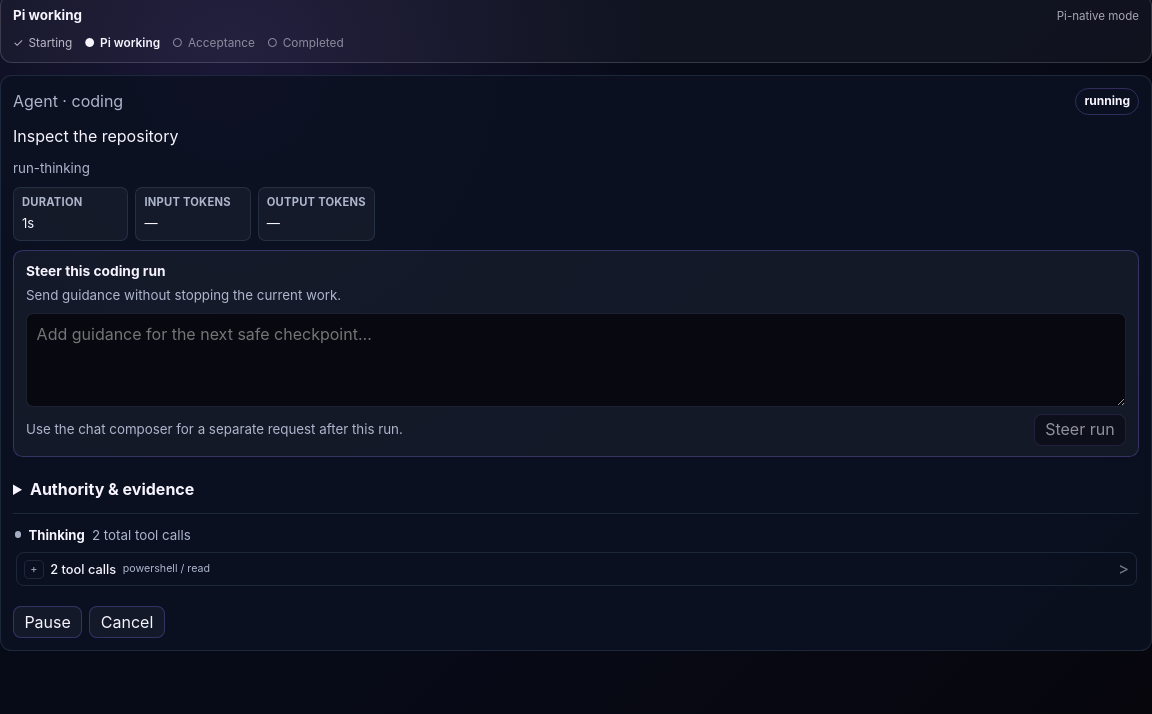
Test: OmnixRunCard › keeps an in-flight Pi tool inspectable directly under Thinking
Expected: the text "2 tool calls" is shown once, [50,560,116,579]
Click the heading "+ 2 tool calls powershell / read" at (117, 569), box [24,560,210,579]
(page scrolled)
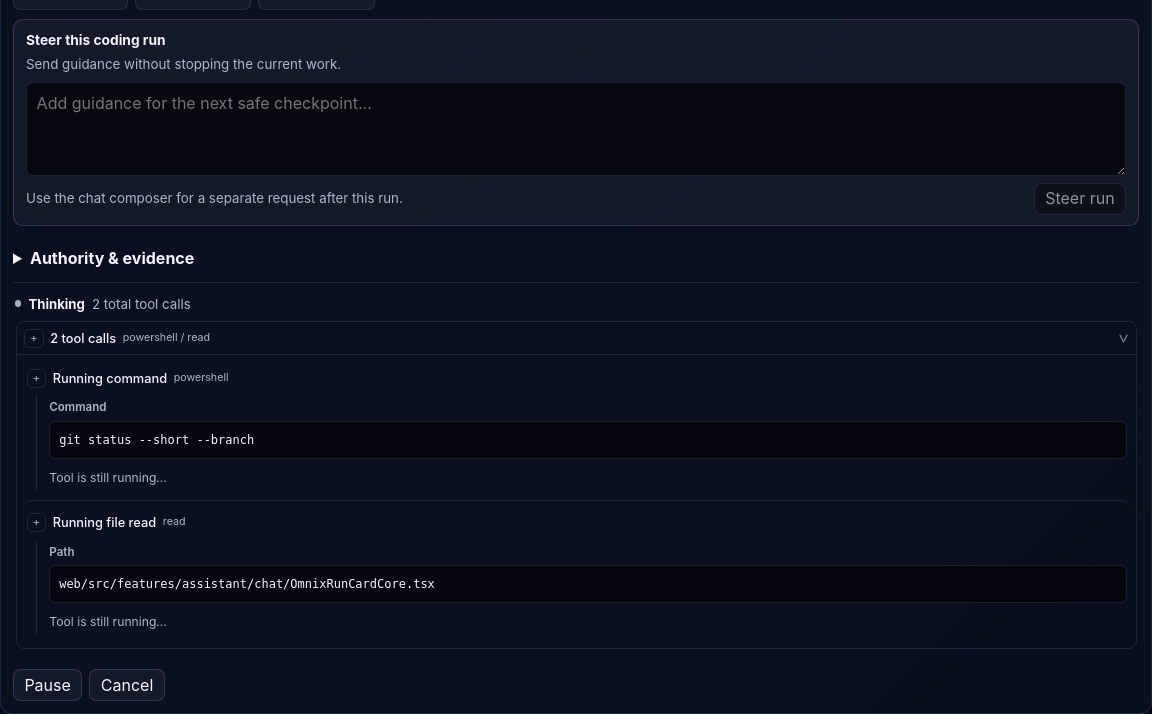
Result: the text "git status --short --branch" is shown at [49,421,1127,459]
Result: the text "web/src/features/assistant/chat/OmnixRunCardCore.tsx" is shown at [49,565,1127,603]
Result: the text "Tool is still running..." is shown 2 times at [49,470,167,485]; [49,614,167,630]
